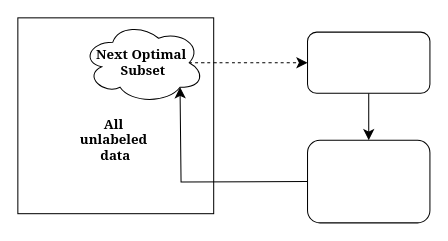
Image size: 448x241. Some labels were removed from this diagram. The shapes that lost their labels are listed below. From the top down, each one's centre as x and y in pixels, then its label:
At pixel 368 62: "Current Labelled Data Subset".
At pixel 368 181: "Model trained on current subset".
